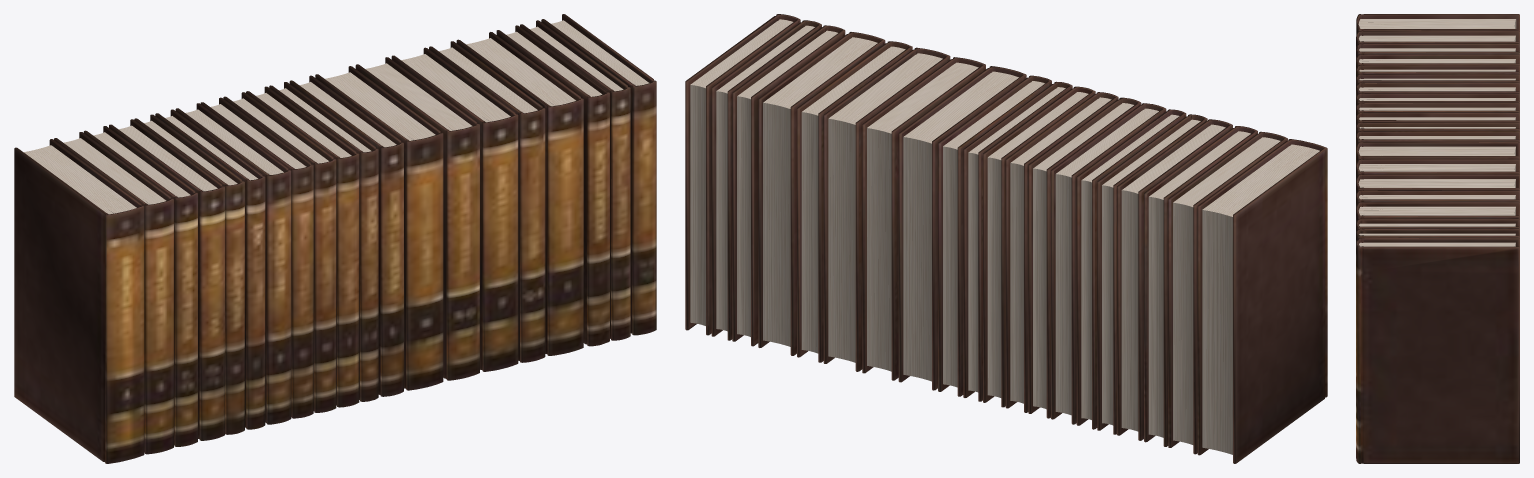
Rendered from book_encyclopedia_set_01.glb.
3 renders of one model, left to right at view 1: azimuth 30°, elevation 25°; view 2: azimuth 150°, elevation 25°; view 3: azimuth 270°, elevation 25°, orthographic. The views are drawn at different scales.
Visible parts, largest first — view 1: book_encyclopedia_set_01_book01; view 2: book_encyclopedia_set_01_book01; view 3: book_encyclopedia_set_01_book01.
Boxes of the visible parts, bbox=[...] form: book_encyclopedia_set_01_book01: bbox=[14, 14, 656, 463]; book_encyclopedia_set_01_book01: bbox=[685, 14, 1327, 463]; book_encyclopedia_set_01_book01: bbox=[1356, 14, 1519, 463].
Bounding box in the file's own units: 0.5513 × 0.2374 × 0.1631.
Materials: 2 (2 with a texture image).
